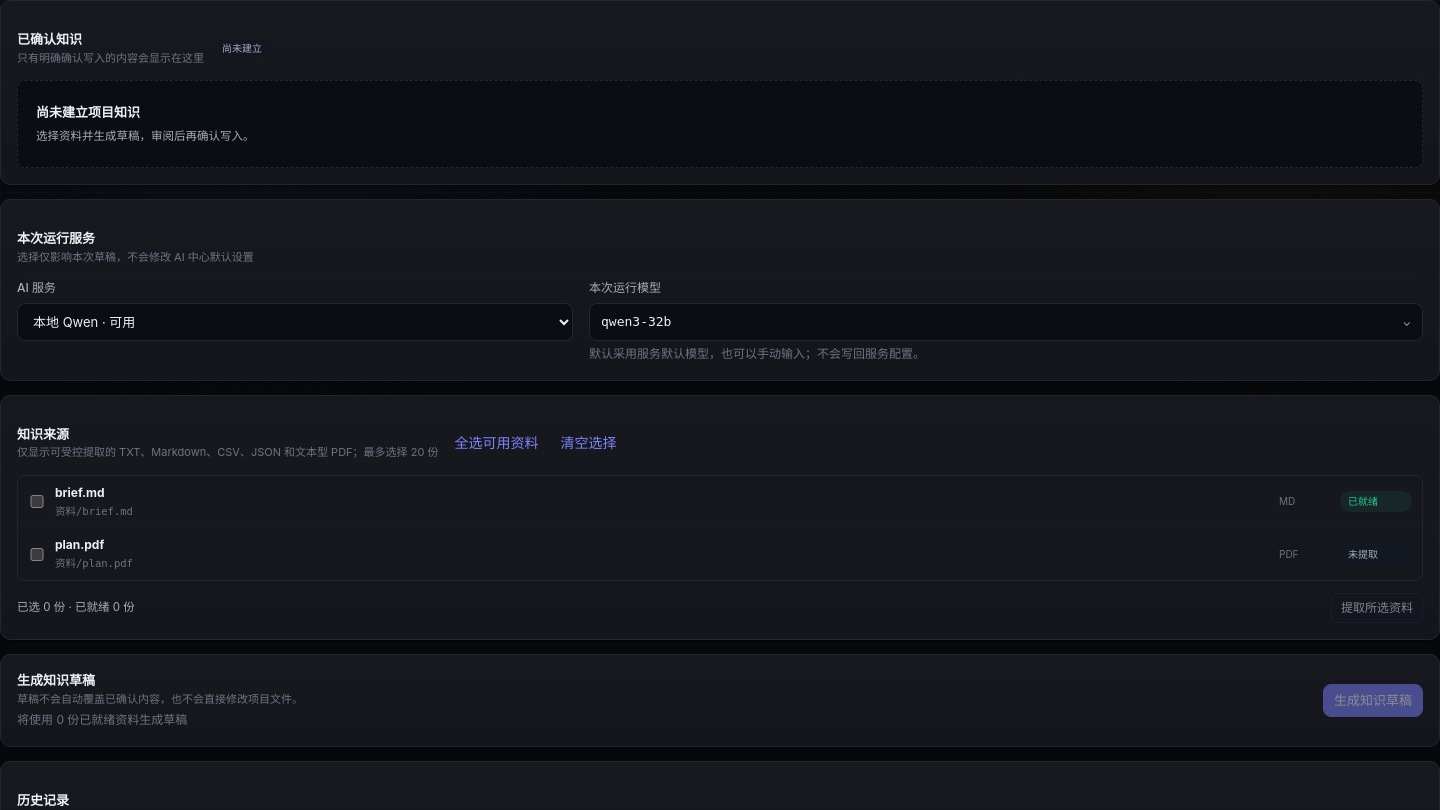
Test: Phase 10.3 project knowledge › passes selected ready sources, provider and runtime model to the draft contract
Click the checkbox labelled "brief.md 资料/brief.md MD 已就绪" at (37, 502), box 28,495 -> 46,508
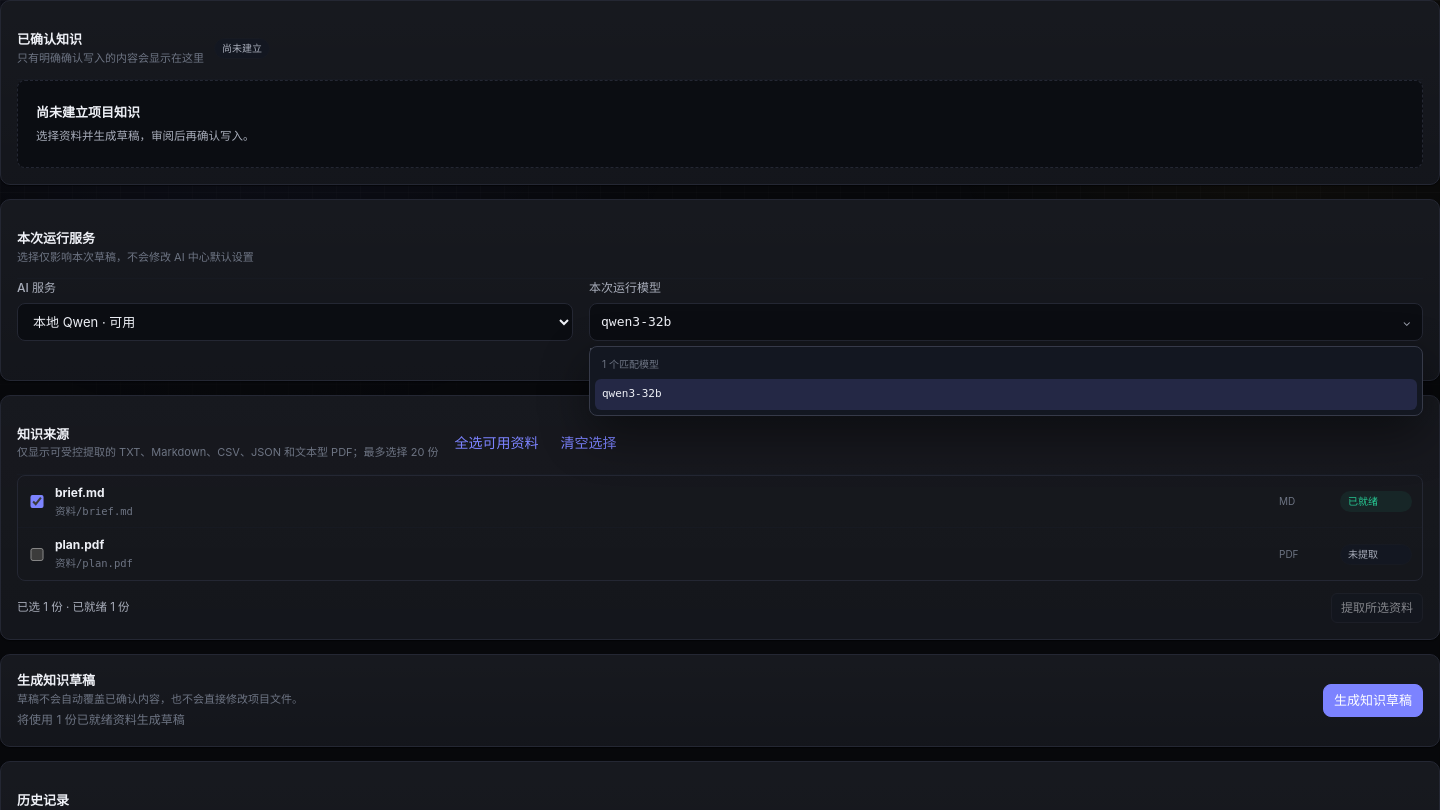
Replace the text in the dropdown labelled "本次运行模型" with "manual-model" at (1006, 322), box 589,303 -> 1423,341
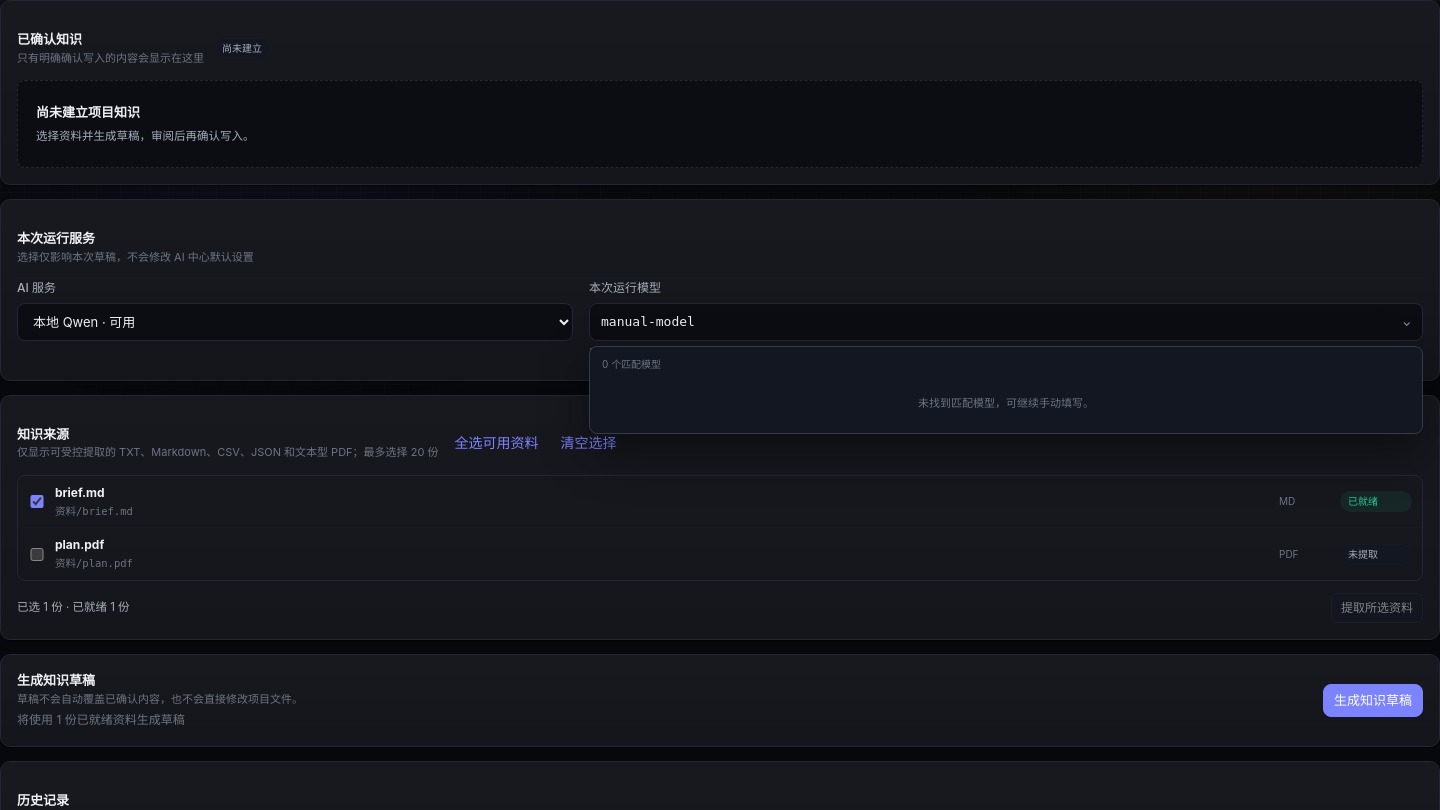
Click the button "生成知识草稿" at (1373, 700), box 1323,684 -> 1423,717
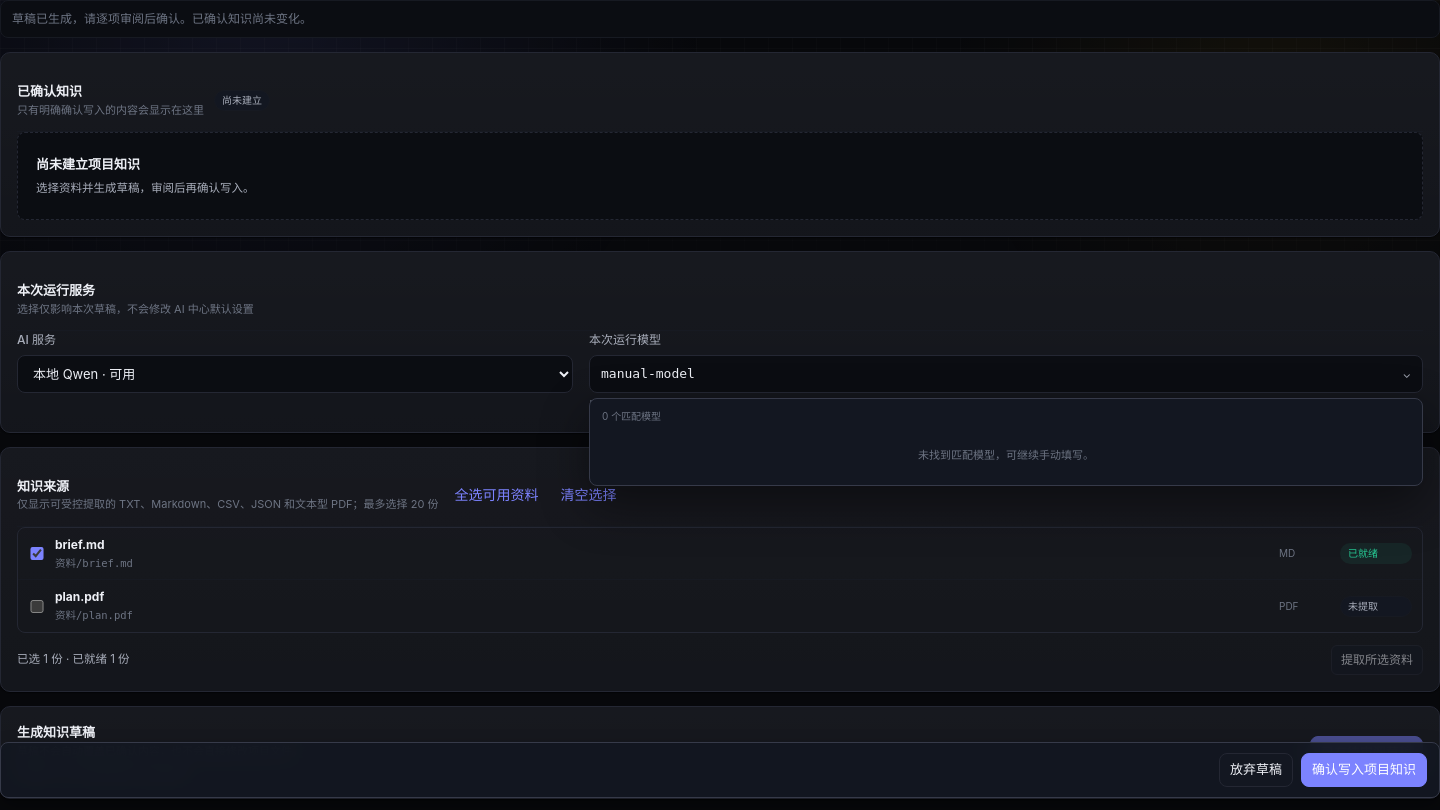
Expected: the text "草稿已生成，请逐项审阅后确认。已确认知识尚未变化。" is shown, 0,0 -> 1439,38
